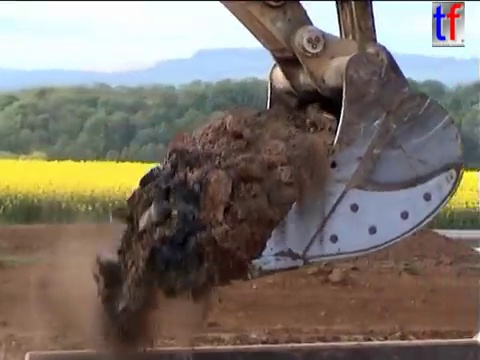excavator: (144, 1, 469, 286)
truck: (22, 335, 480, 360)
